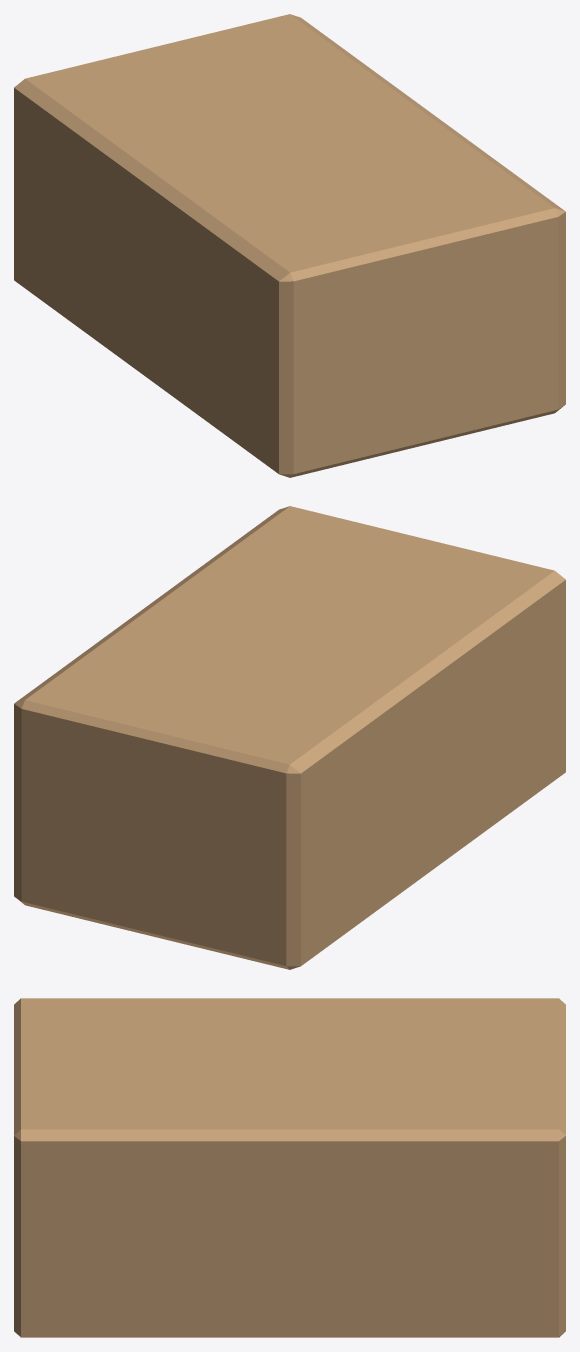
Rendered from Prop_Box_CardBoard_A.fbx.
3 renders of one model, top to bottom at view 1: azimuth 30°, elevation 25°; view 2: azimuth 150°, elevation 25°; view 3: azimuth 270°, elevation 25°, orthographic.
Visible parts, largest first — view 1: Prop_Box_CardBoard_A; view 2: Prop_Box_CardBoard_A; view 3: Prop_Box_CardBoard_A.
Part boxes in pixels (x1,y1,x2,y2): Prop_Box_CardBoard_A: (14,14,565,477); Prop_Box_CardBoard_A: (14,506,565,969); Prop_Box_CardBoard_A: (14,998,565,1337).
Bounding box in the file's own units: 108 × 65.52 × 44.79.
